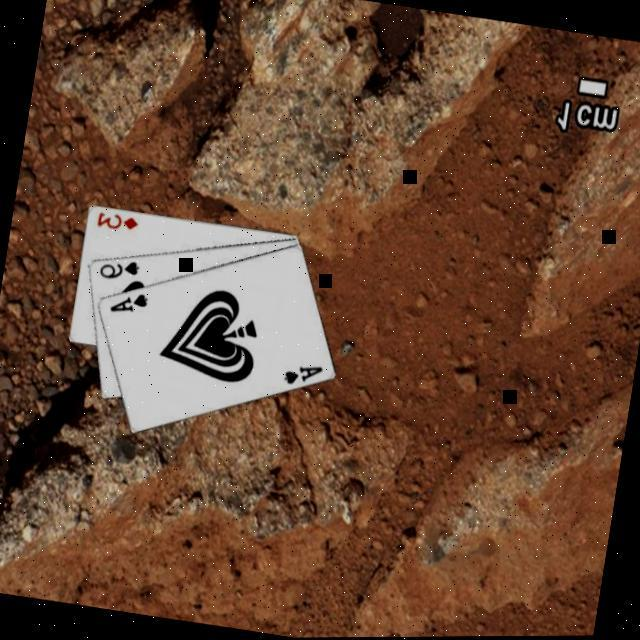3D: (92, 210, 141, 237)
9S: (93, 254, 142, 287)
AS: (278, 360, 325, 394), (104, 288, 150, 321)
